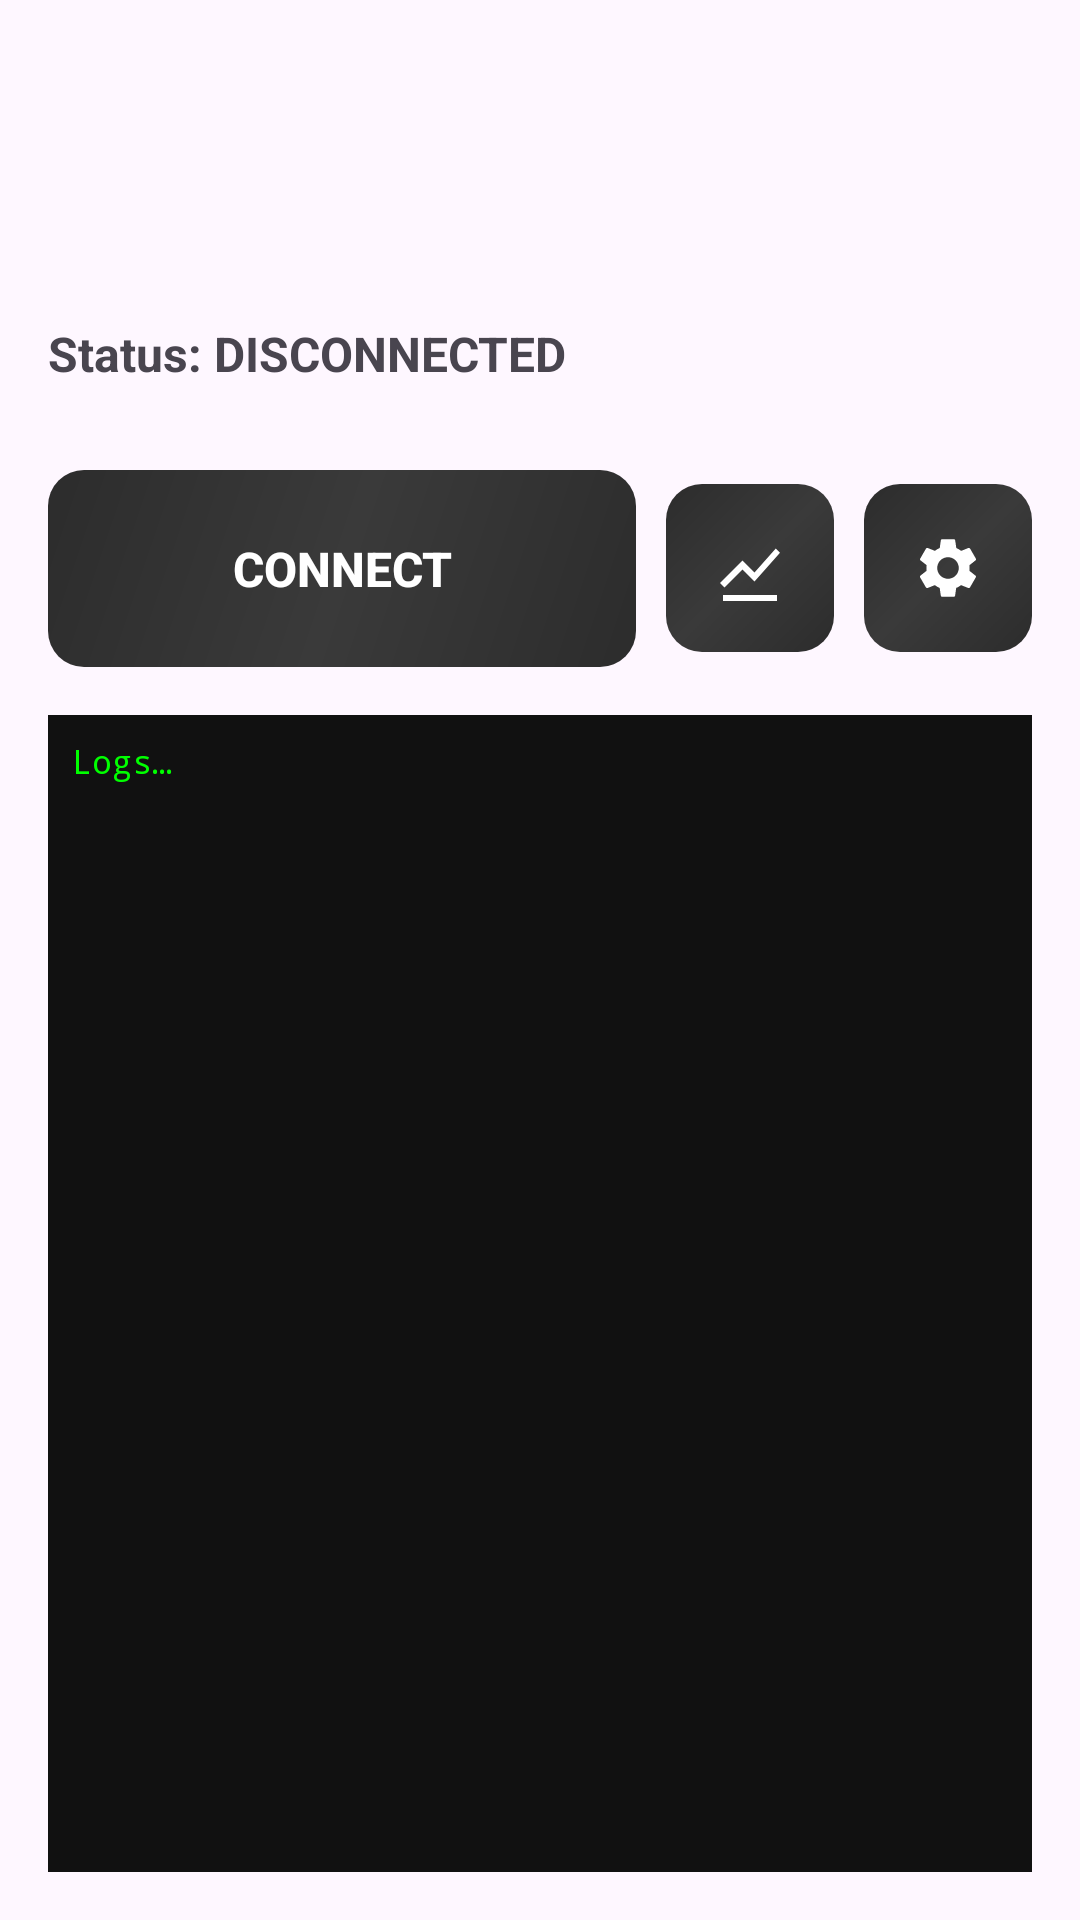

Locate icon controls on the screen. Image size 1080x1920, boxes as (x1, y1, x2, y2).
Settings: (864, 484, 1032, 652)
Traffic Statistics: (666, 484, 834, 652)
